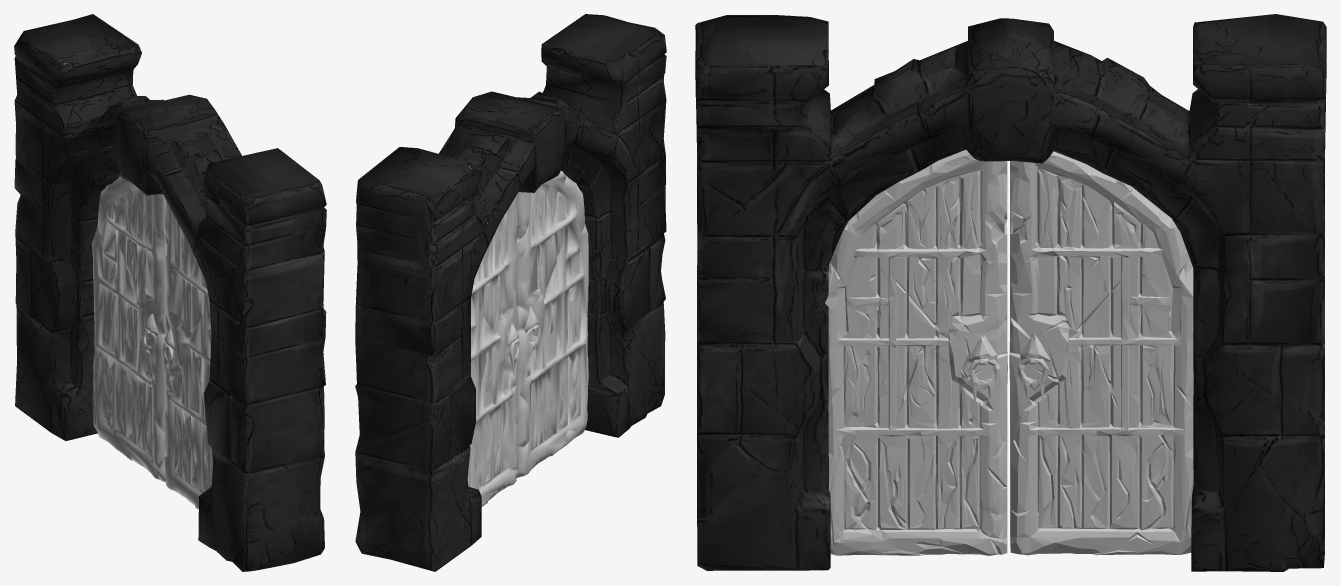
Rendered from DoorWay.FBX.
3 renders of one model, left to right at view 1: azimuth 30°, elevation 25°; view 2: azimuth 150°, elevation 25°; view 3: azimuth 270°, elevation 25°, orthographic. The views are drawn at different scales.
Visible parts, largest first — view 1: GatewayLow, DoorRightLow001, DoorLeftLow001; view 2: GatewayLow, DoorLeftLow001, DoorRightLow001; view 3: GatewayLow, DoorRightLow001, DoorLeftLow001.
Part boxes in pixels (left/top/right/bottom): GatewayLow: left=14, top=14, right=326, bottom=571; DoorRightLow001: left=92, top=176, right=167, bottom=481; DoorLeftLow001: left=162, top=199, right=212, bottom=509; GatewayLow: left=355, top=14, right=666, bottom=571; DoorLeftLow001: left=515, top=171, right=588, bottom=477; DoorRightLow001: left=467, top=193, right=520, bottom=506; GatewayLow: left=695, top=14, right=1326, bottom=571; DoorRightLow001: left=1009, top=151, right=1193, bottom=555; DoorLeftLow001: left=825, top=149, right=1007, bottom=555.
Size of the model in its own units: 22.79 by 101 by 113.
